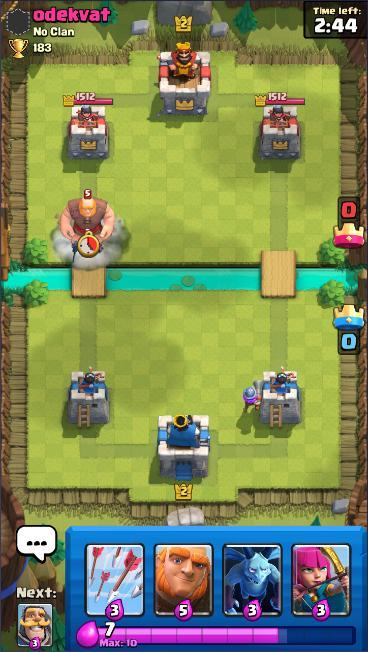enemy_giant: (58, 188, 118, 250)
enemy_mini_pekka: (70, 231, 106, 266)
